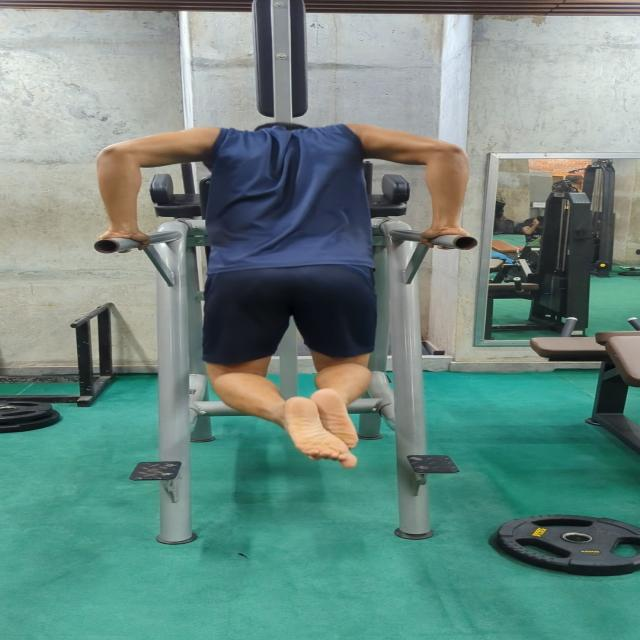Normal_Dips: (80, 112, 492, 468)
